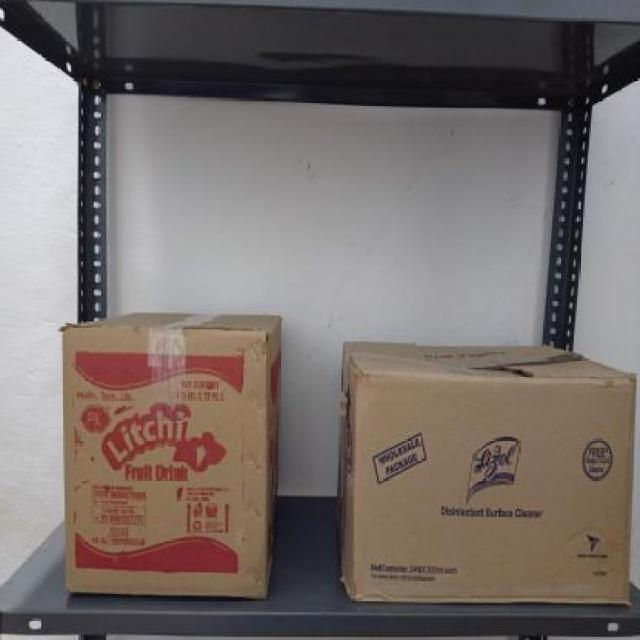box: (345, 370, 633, 601), (63, 331, 268, 594)
